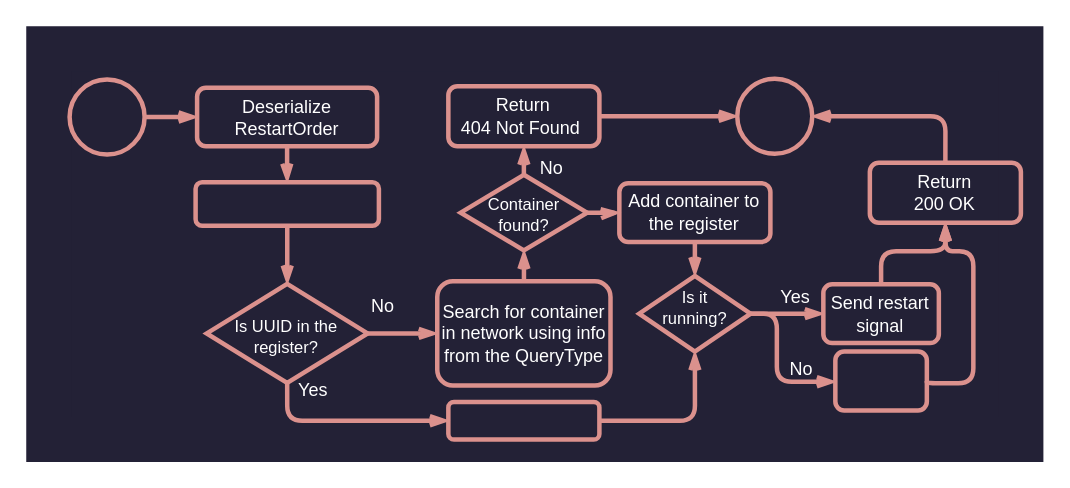
Image size: 1070x488. Some labels were removed from this diagram. Each missing label, with the box of its shape:
End: (734, 76, 814, 155)
Get container Id: (445, 399, 601, 441)
Get UUID: (193, 179, 380, 227)
Send start signal: (832, 349, 928, 412)
Start: (67, 76, 146, 156)
